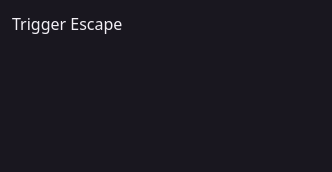
Test: Tooltip component contract and behaviors (R6) › reveals tooltip on focus and closes on Escape key
Focus the button "Trigger Escape" at (67,24), box x1=12 y1=12 x2=122 y2=36
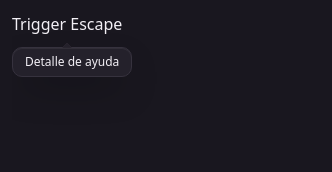
Check: the tooltip "Detalle de ayuda" is shown, box x1=12 y1=47 x2=132 y2=77
Press Escape in the button "Trigger Escape", box x1=12 y1=12 x2=122 y2=36
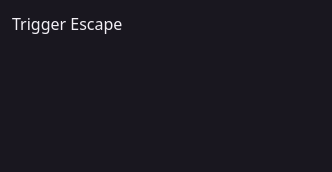
Check: the tooltip "Detalle de ayuda" is gone
